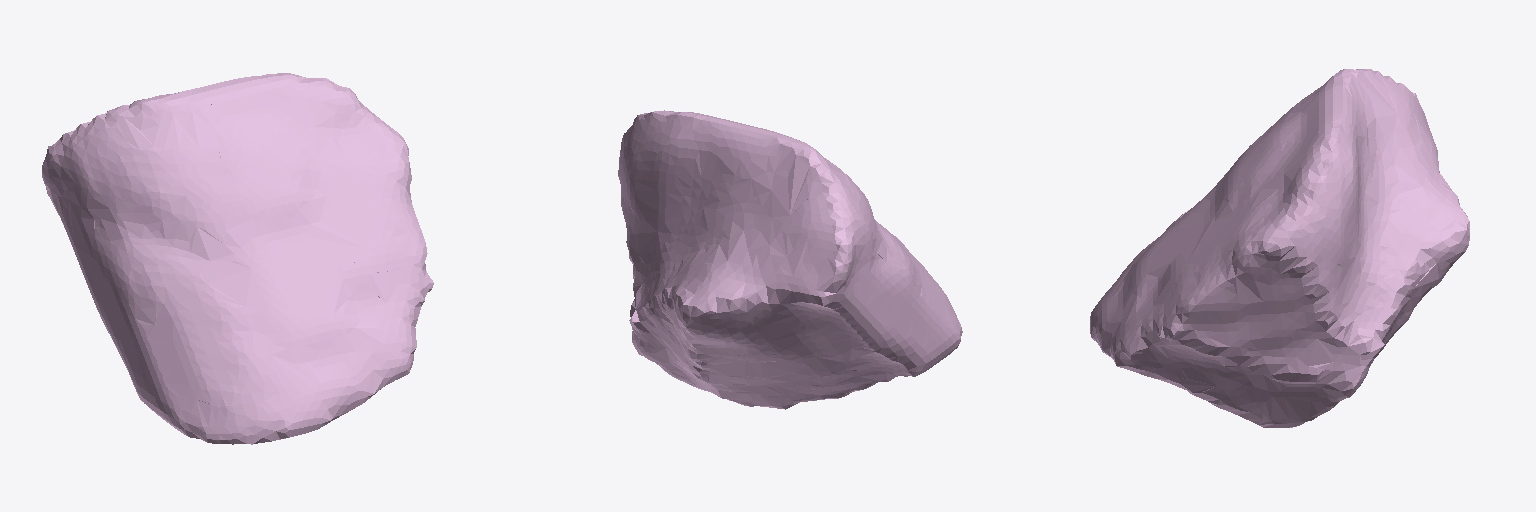
Rendered from Model_42_RH__Area_9_of_cortex_(A9).obj.
3 views of the same model, side by side, from view 1: azimuth 30°, elevation 25°; view 2: azimuth 150°, elevation 25°; view 3: azimuth 270°, elevation 25° (orthographic).
Size of the model in its own units: 2.96 by 2.93 by 3.33.